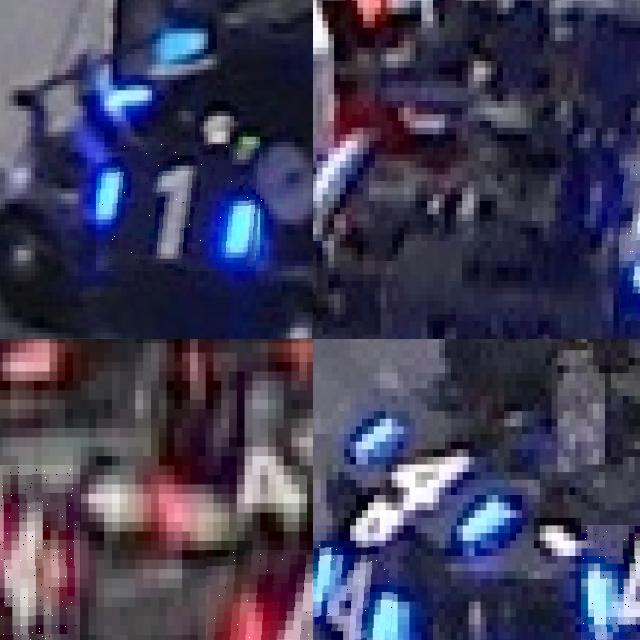B1: (96, 142, 264, 271)
B4: (338, 404, 522, 540), (313, 540, 397, 640), (581, 525, 640, 639)
R4: (0, 465, 80, 640), (205, 550, 313, 640)
